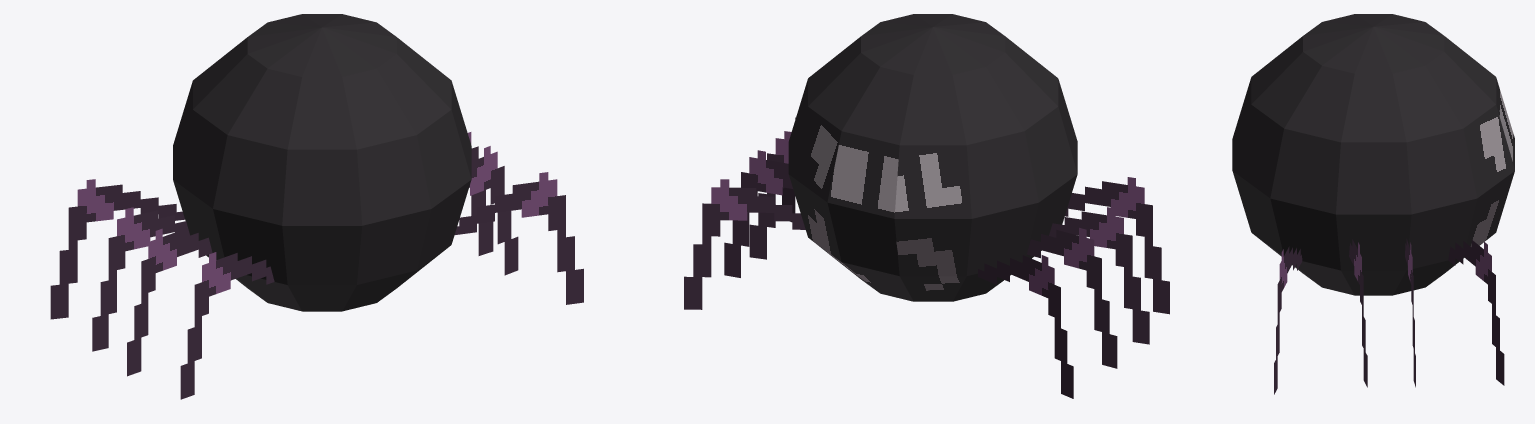
Rendered from spidermom.gltf.
3 renders of one model, left to right at view 1: azimuth 30°, elevation 25°; view 2: azimuth 150°, elevation 25°; view 3: azimuth 270°, elevation 25°, orthographic. The views are drawn at different scales.
Visible parts, largest first — view 1: body, plane (×7); view 2: body, plane (×7); view 3: body, plane (×4).
Part boxes in pixels (x1,y1,x2,y2): body: (173, 14, 471, 311); plane (×7): (50, 132, 583, 399); body: (788, 14, 1077, 301); plane (×7): (684, 131, 1169, 398); body: (1232, 14, 1514, 295); plane (×4): (1274, 239, 1504, 394).
Size of the model in its own units: 1.87 by 1.06 by 1.02.
2 materials, 2 textured.
